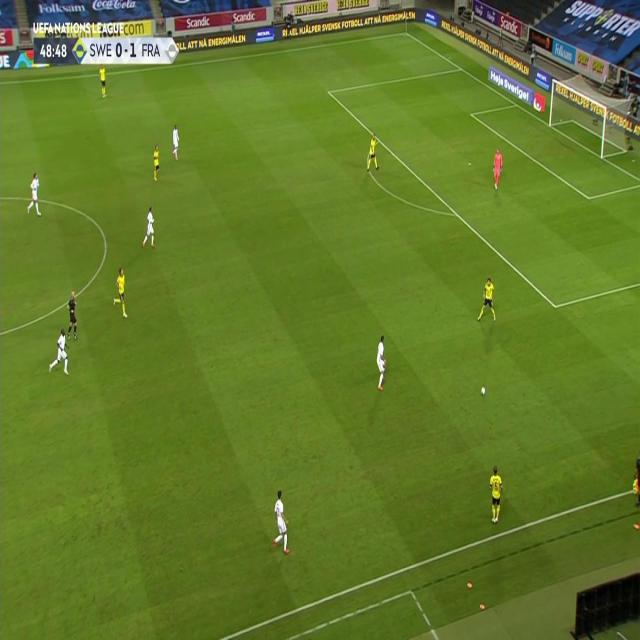ball: (481, 384, 487, 396)
player: (271, 489, 291, 555), (48, 325, 71, 377), (476, 274, 498, 324), (487, 462, 504, 526), (111, 267, 129, 319), (374, 334, 388, 391), (26, 171, 42, 217), (65, 289, 79, 340), (141, 204, 156, 249), (491, 146, 504, 192), (365, 134, 380, 172), (631, 452, 640, 502), (170, 123, 180, 161), (98, 64, 108, 98), (152, 142, 160, 182)
